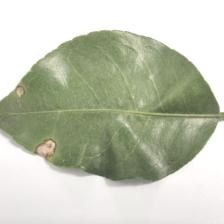canker: (5, 67, 76, 171)
